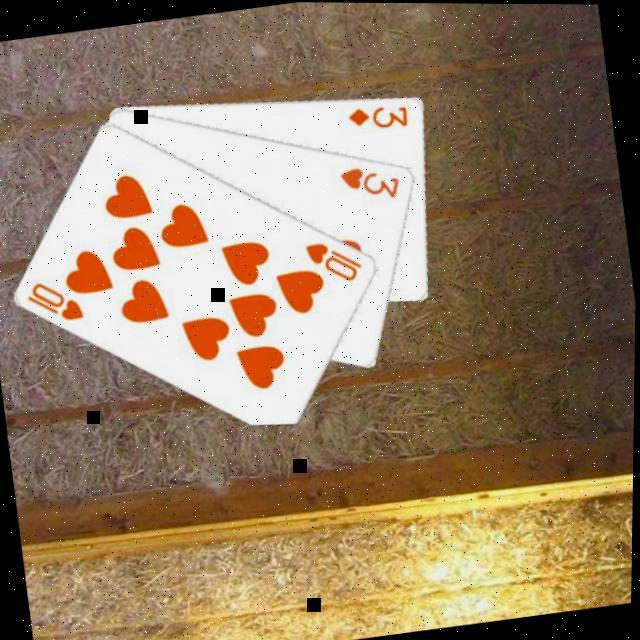10H: (302, 232, 370, 288), (24, 272, 90, 328)
3D: (344, 96, 414, 135)
3H: (338, 156, 408, 206)
